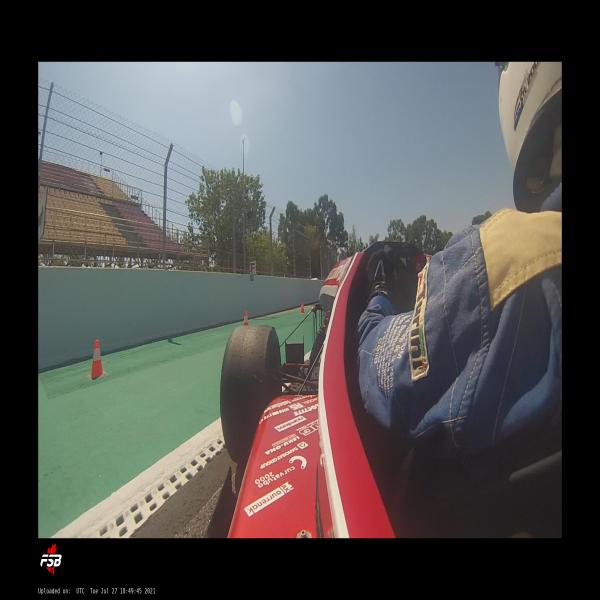orange_cone: (89, 339, 106, 378), (244, 311, 248, 325), (301, 301, 304, 314)
